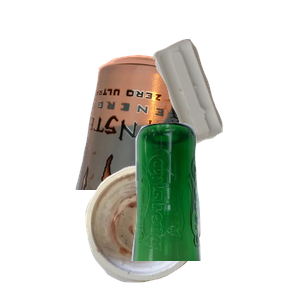glass: (129, 120, 300, 300)
metal: (73, 52, 263, 232)
plastic: (150, 36, 300, 173)
trash: (83, 163, 276, 300)
